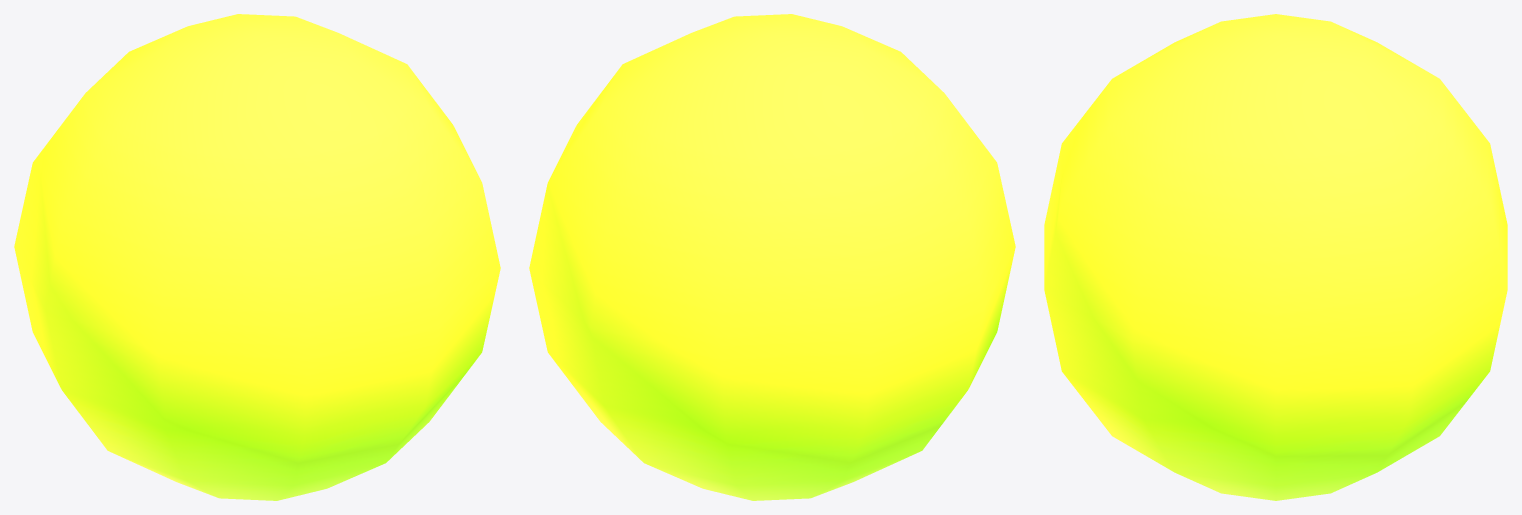
Rendered from Xormite_Spawner_Extra.fbx.
3 renders of one model, left to right at view 1: azimuth 30°, elevation 25°; view 2: azimuth 150°, elevation 25°; view 3: azimuth 270°, elevation 25°, orthographic.
Parts seen in each view (by area): view 1: Egg; view 2: Egg; view 3: Egg.
Part boxes in pixels (x1,y1,x2,y2): Egg: [14, 14, 500, 500]; Egg: [529, 14, 1015, 500]; Egg: [1044, 14, 1507, 500].
Size of what is drawn, in the model's own units: 49.25 by 49.25 by 46.84.
